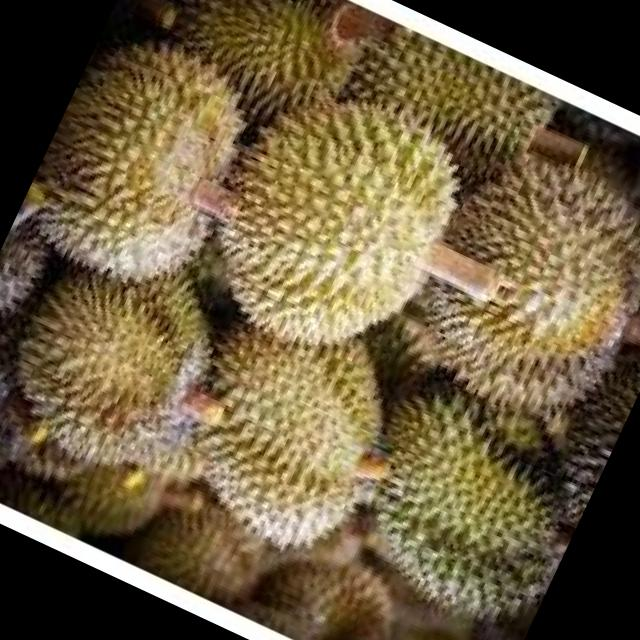fruit: (121, 15, 520, 415), (344, 73, 640, 483), (108, 251, 450, 592), (0, 0, 317, 349), (280, 331, 618, 640), (0, 193, 264, 517), (307, 6, 578, 220)
